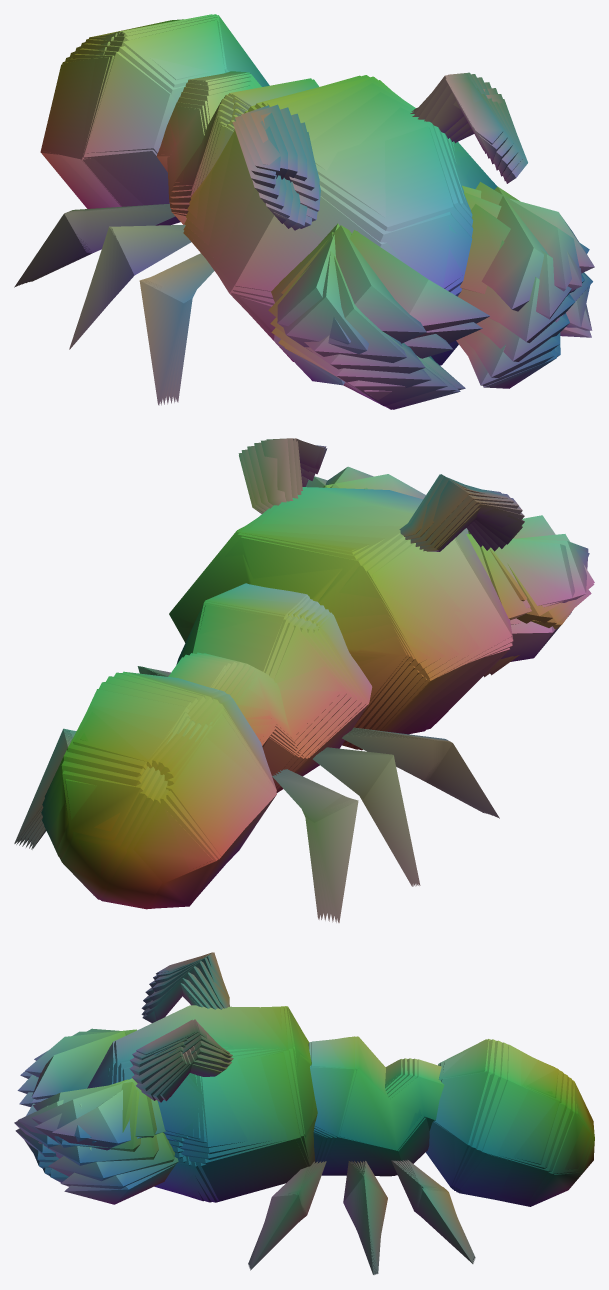
File: Warior_Idle_meshes.fbx
3 renders of one model, top to bottom at view 1: azimuth 30°, elevation 25°; view 2: azimuth 150°, elevation 25°; view 3: azimuth 270°, elevation 25°, orthographic. The views are drawn at different scales.
Visible parts, largest first — view 1: Warior_Idle_008, Warior_Idle_010, Warior_Idle_007, Warior_Idle_009, Warior_Idle_011, Warior_Idle_005, Warior_Idle_006, Warior_Idle_004, Warior_Idle_000, Warior_Idle_003, Warior_Idle_012, Warior_Idle_013 (+4 smaller); view 2: Warior_Idle_000, Warior_Idle_012, Warior_Idle_010, Warior_Idle_008, Warior_Idle_009, Warior_Idle_013, Warior_Idle_015, Warior_Idle_011, Warior_Idle_014, Warior_Idle_007, Warior_Idle_004, Warior_Idle_003 (+4 smaller); view 3: Warior_Idle_000, Warior_Idle_015, Warior_Idle_013, Warior_Idle_001, Warior_Idle_014, Warior_Idle_011, Warior_Idle_010, Warior_Idle_002, Warior_Idle_012, Warior_Idle_004, Warior_Idle_008, Warior_Idle_003 (+4 smaller).
Part boxes in pixels (x1,y1,x2,y2): Warior_Idle_008: (36, 53, 581, 405); Warior_Idle_010: (43, 57, 589, 343); Warior_Idle_007: (31, 48, 571, 405); Warior_Idle_009: (68, 57, 594, 344); Warior_Idle_011: (41, 55, 548, 338); Warior_Idle_005: (26, 19, 569, 404); Warior_Idle_006: (29, 43, 574, 405); Warior_Idle_004: (22, 17, 559, 406); Warior_Idle_000: (14, 33, 591, 402); Warior_Idle_003: (19, 15, 554, 409); Warior_Idle_012: (40, 52, 584, 343); Warior_Idle_013: (62, 47, 592, 358); Warior_Idle_000: (14, 526, 571, 922); Warior_Idle_012: (133, 449, 466, 908); Warior_Idle_010: (166, 442, 555, 862); Warior_Idle_008: (32, 438, 588, 919); Warior_Idle_009: (167, 439, 589, 811); Warior_Idle_013: (100, 453, 440, 909); Warior_Idle_015: (44, 527, 520, 895); Warior_Idle_011: (166, 446, 484, 898); Warior_Idle_014: (66, 455, 410, 899); Warior_Idle_007: (31, 438, 594, 919); Warior_Idle_004: (22, 467, 573, 921); Warior_Idle_003: (19, 470, 559, 922); Warior_Idle_000: (64, 983, 593, 1274); Warior_Idle_015: (60, 978, 594, 1205); Warior_Idle_013: (38, 966, 523, 1205); Warior_Idle_001: (49, 993, 590, 1274); Warior_Idle_014: (48, 972, 594, 1206); Warior_Idle_011: (31, 954, 461, 1193); Warior_Idle_010: (25, 952, 459, 1192); Warior_Idle_002: (43, 1008, 569, 1274); Warior_Idle_012: (32, 957, 486, 1198); Warior_Idle_004: (24, 995, 558, 1274); Warior_Idle_008: (34, 973, 473, 1273); Warior_Idle_003: (34, 1001, 563, 1274).
Size of the model in its own units: 176 by 145 by 342.
